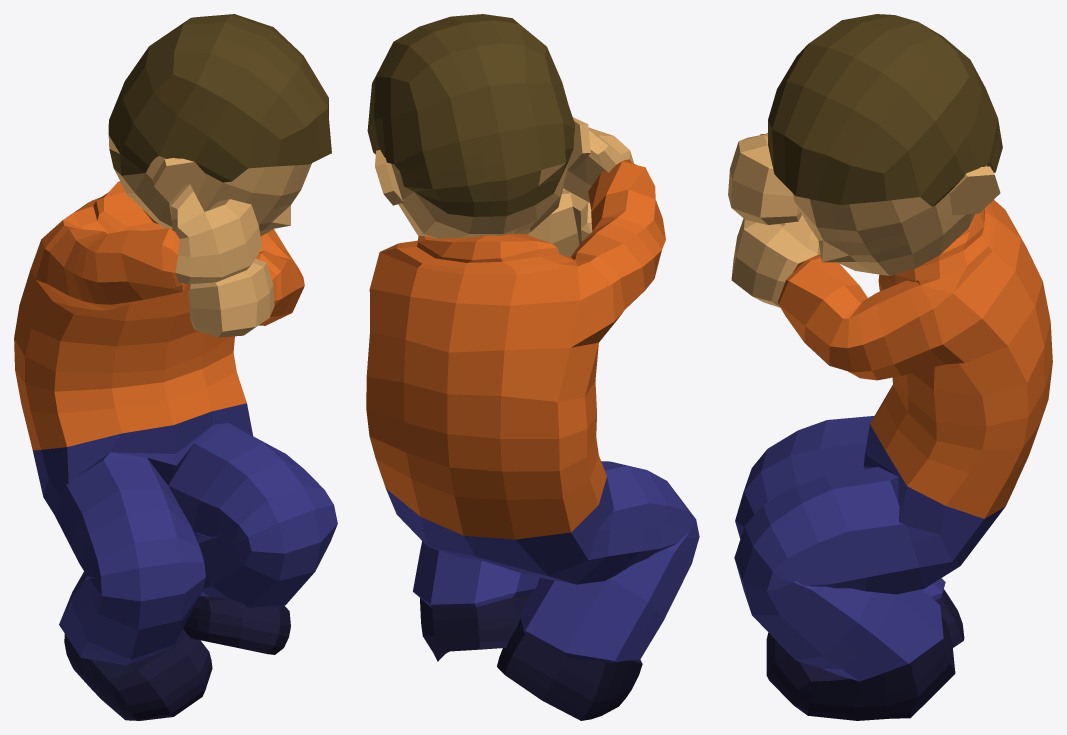
File: Student.fbx
3 views of the same model, side by side, from view 1: azimuth 30°, elevation 25°; view 2: azimuth 150°, elevation 25°; view 3: azimuth 270°, elevation 25° (orthographic). The views are drawn at different scales.
Visible parts, largest first — view 1: Body; view 2: Body; view 3: Body.
Boxes of the visible parts, x1,y1,x2,y2 form: Body: (14,14,337,720); Body: (366,14,699,720); Body: (728,14,1052,720).
Bounding box in the file's own units: 5.02 × 11.92 × 4.87.
